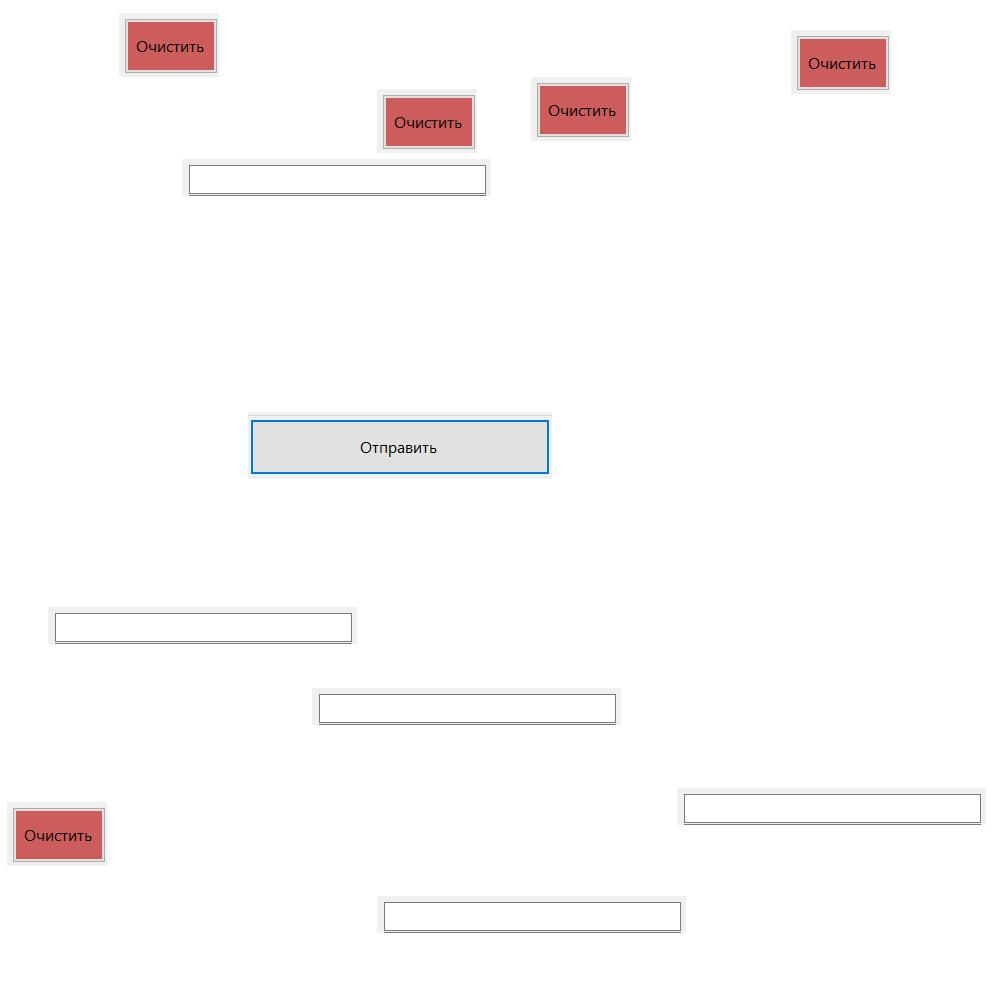Button: (248, 412, 552, 479), (7, 802, 107, 866), (377, 89, 477, 153), (531, 77, 631, 141), (791, 30, 891, 94), (119, 13, 219, 77)
EditText-: (377, 896, 686, 933), (48, 607, 357, 644), (312, 688, 621, 725), (182, 159, 491, 196), (677, 788, 986, 825)
